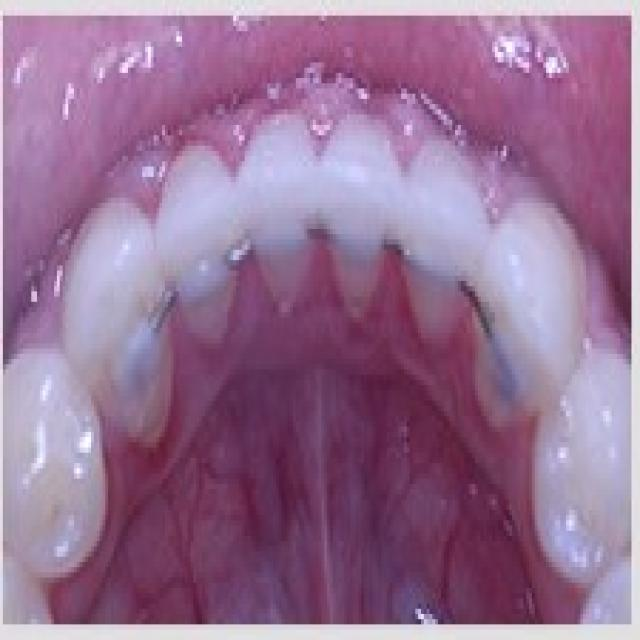tooth: (51, 213, 168, 411), (130, 125, 244, 317), (3, 333, 85, 562), (248, 104, 318, 297), (512, 224, 575, 411), (409, 140, 478, 307), (330, 120, 390, 302), (564, 375, 634, 520)
